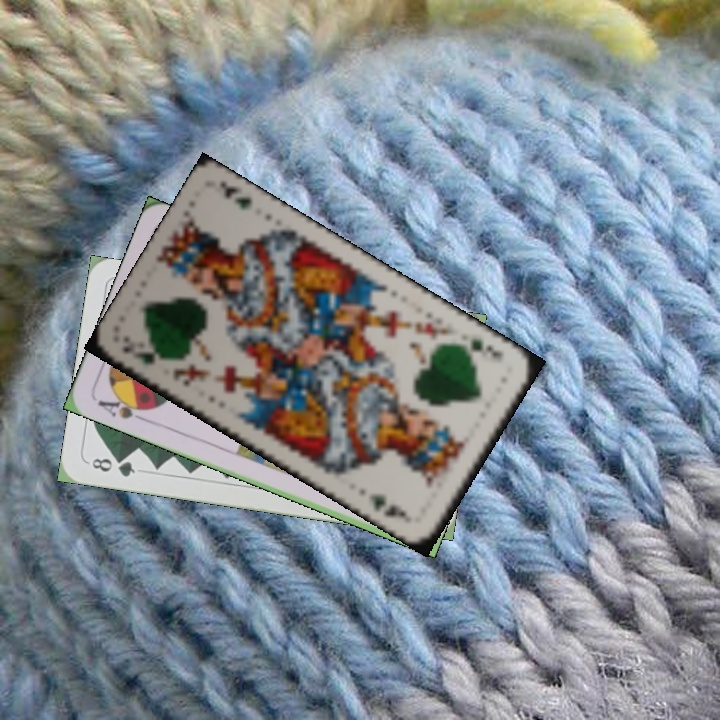G8: (87, 454, 138, 480)
GK: (117, 332, 170, 368), (455, 335, 506, 359)
SA: (93, 390, 153, 424)
